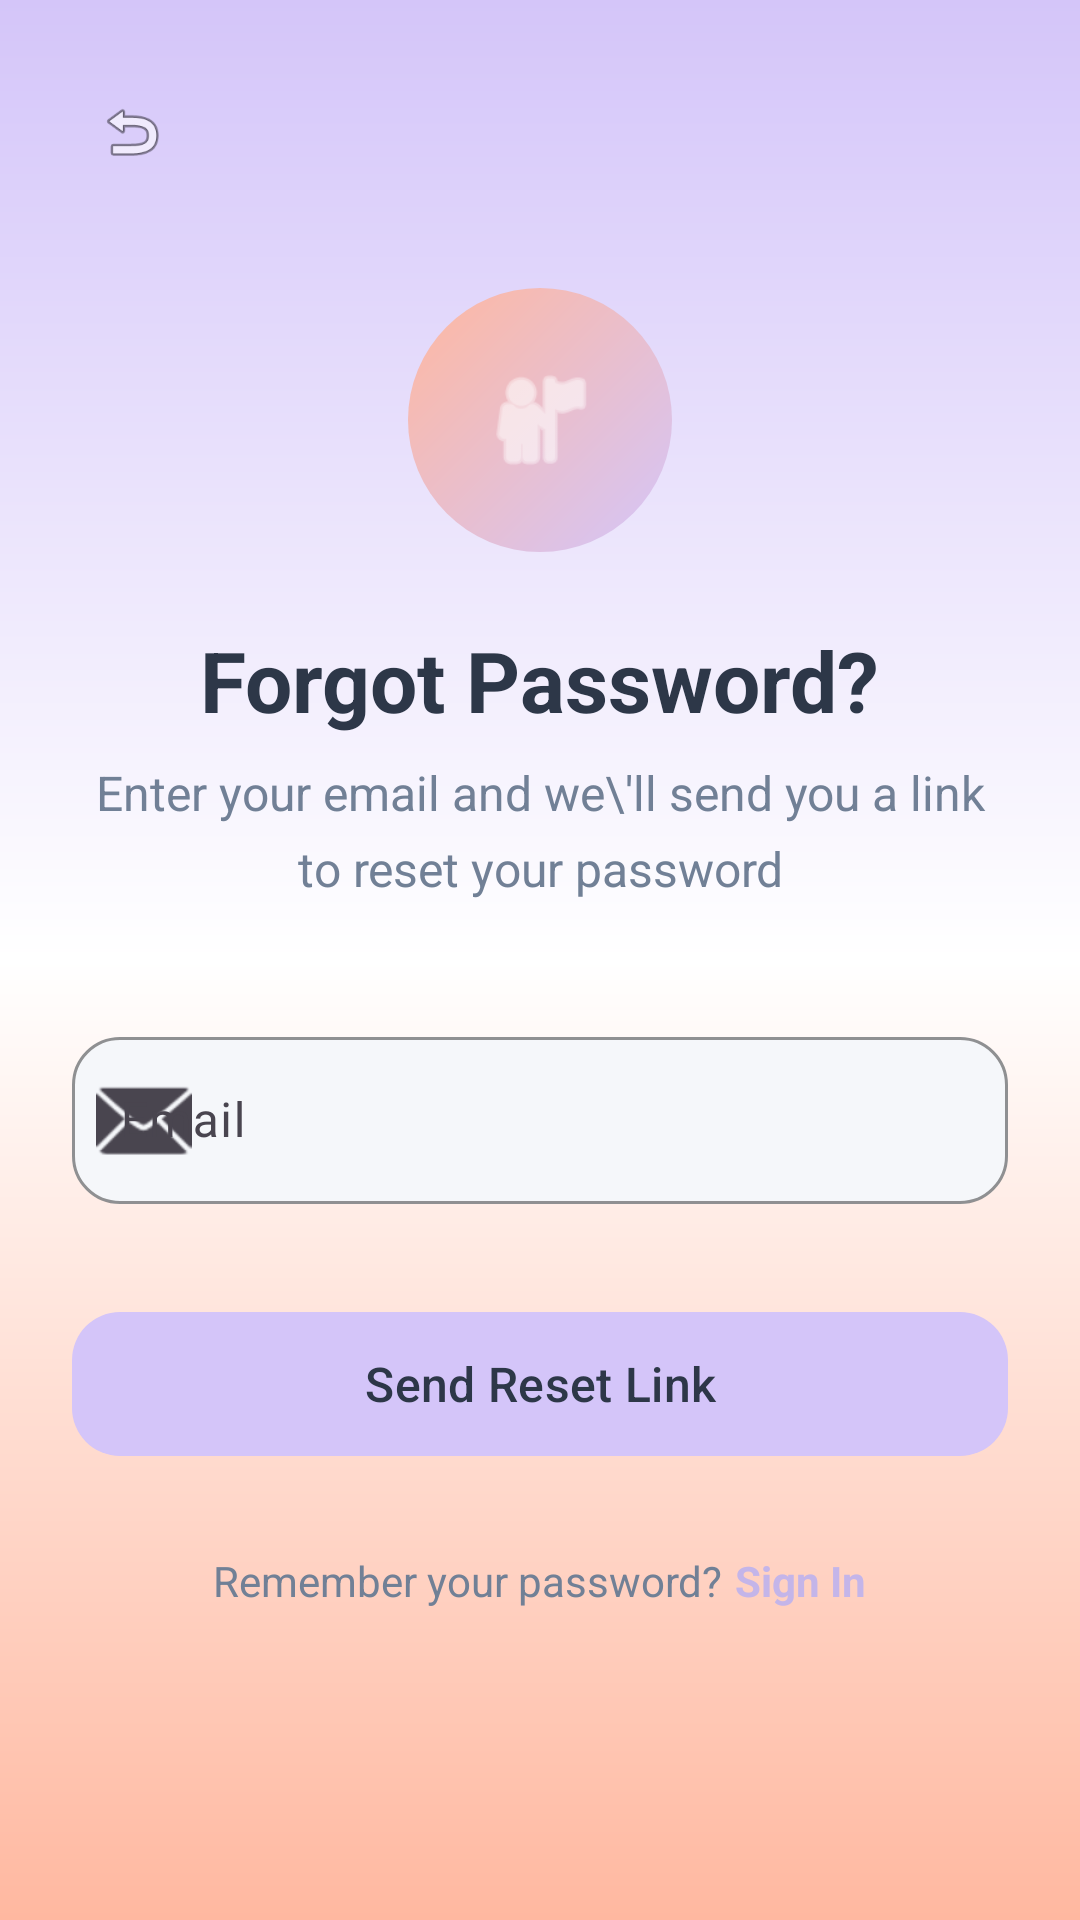

Icon click points for this 1080x1920 phone screenshot, format [x,y]:
Back: [133,132]
